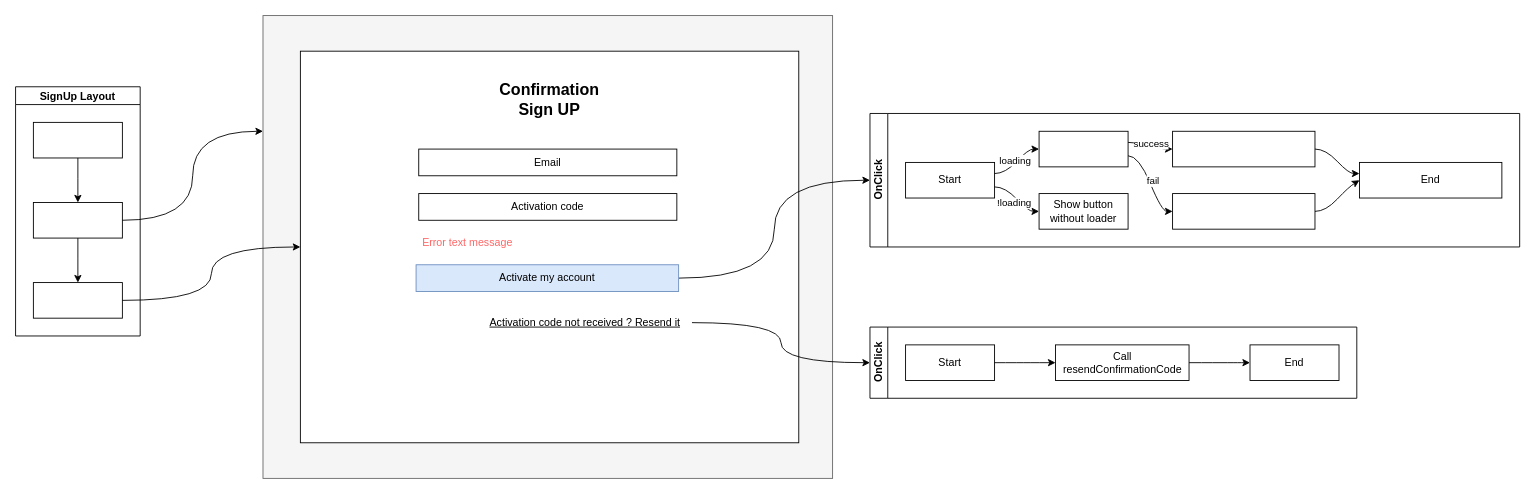
The diagram is 1535 pixels wide and 494 high, and some of its shapes have lost their labels. Here are the shapes that lost their labels. From the top down, the box of each, then its label:
(32, 121, 122, 158): ConfirmSignUpPage
(1038, 130, 1128, 167): Show loader min 2sec
(1172, 130, 1315, 167): Redirect to /signin
(32, 202, 122, 238): MainLayout
(1172, 193, 1315, 229): Display errors
(32, 282, 122, 318): ConfirmSignUp
